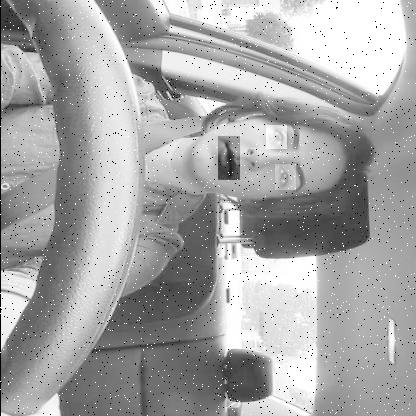seatbelt: (0, 93, 380, 248)
